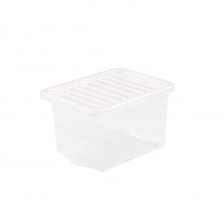plastic_box: (30, 57, 182, 175)
